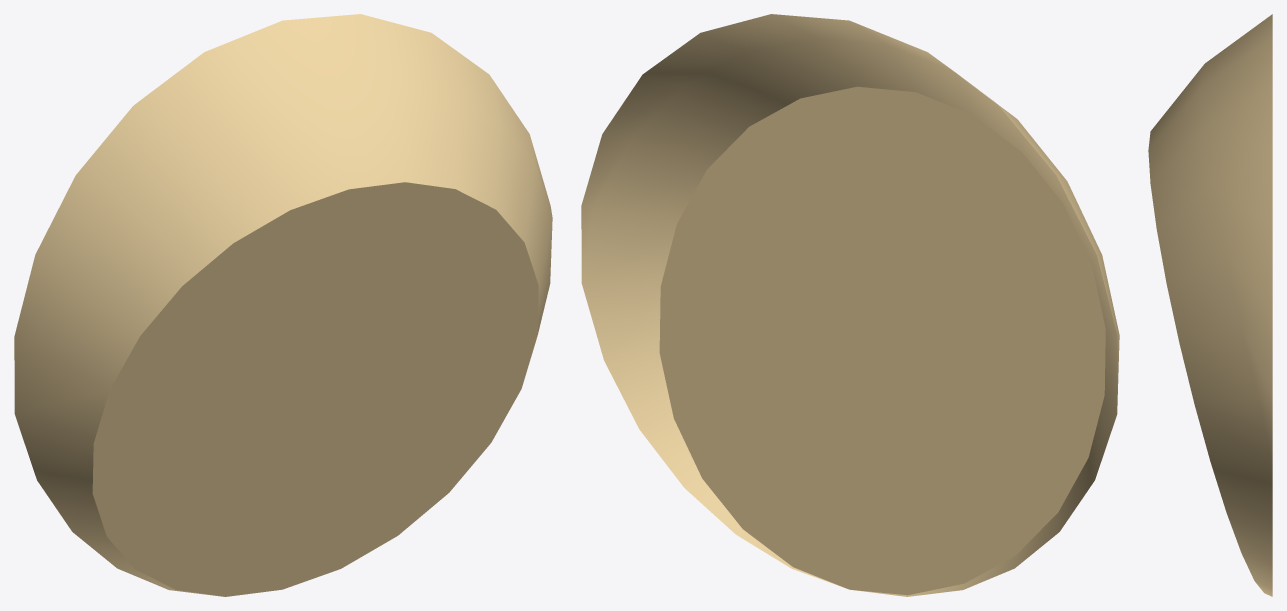
The model's file is original-3.obj.
3 renders of one model, left to right at view 1: azimuth 30°, elevation 25°; view 2: azimuth 150°, elevation 25°; view 3: azimuth 270°, elevation 25°, orthographic. The views are drawn at different scales.
Visible parts, largest first — view 1: #ID17; view 2: #ID17; view 3: #ID17.
Part boxes in pixels (box(x1,y1,x2,y2)): #ID17: box(14, 14, 552, 596); #ID17: box(581, 14, 1119, 596); #ID17: box(1148, 14, 1272, 596).
Bounding box in the file's own units: 0.2333 × 0.2365 × 0.05.
